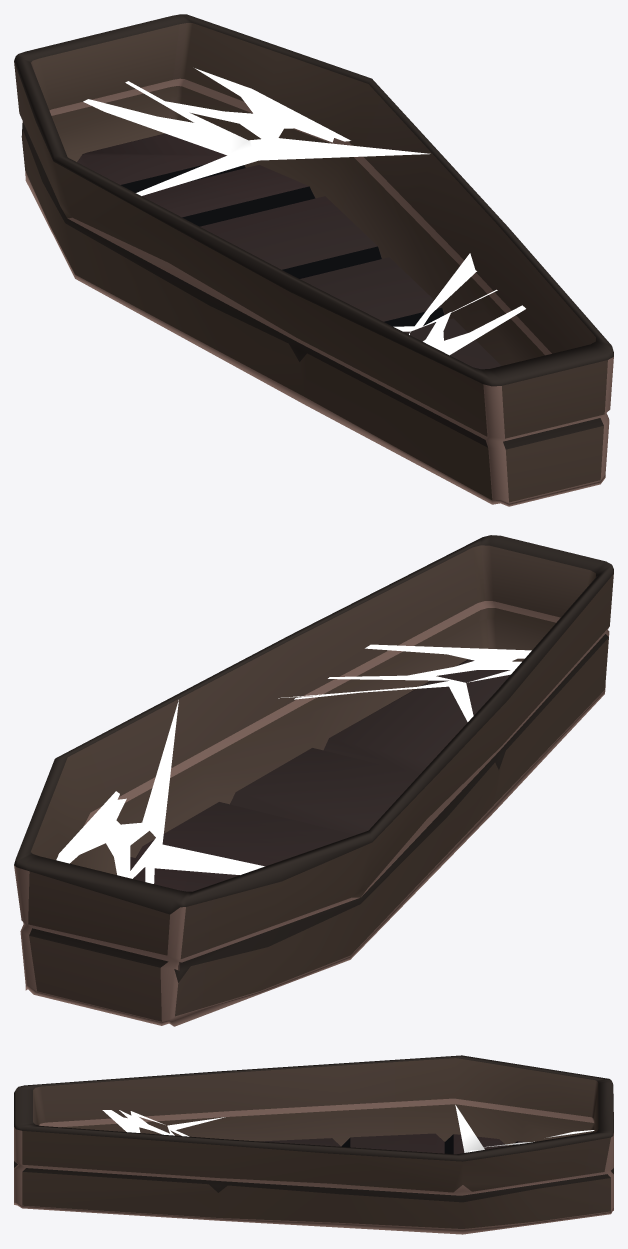
File: Coffin.glb
3 renders of one model, top to bottom at view 1: azimuth 30°, elevation 25°; view 2: azimuth 150°, elevation 25°; view 3: azimuth 270°, elevation 25°, orthographic. The views are drawn at different scales.
Visible parts, largest first — view 1: Coffin; view 2: Coffin; view 3: Coffin.
Boxes of the visible parts, x1,y1,x2,y2 form: Coffin: [14, 14, 613, 506]; Coffin: [14, 535, 613, 1026]; Coffin: [14, 1055, 613, 1234].
Size of what is drawn, in the model's own units: 1.19 by 0.466 by 2.95.
1 material, 1 textured.
